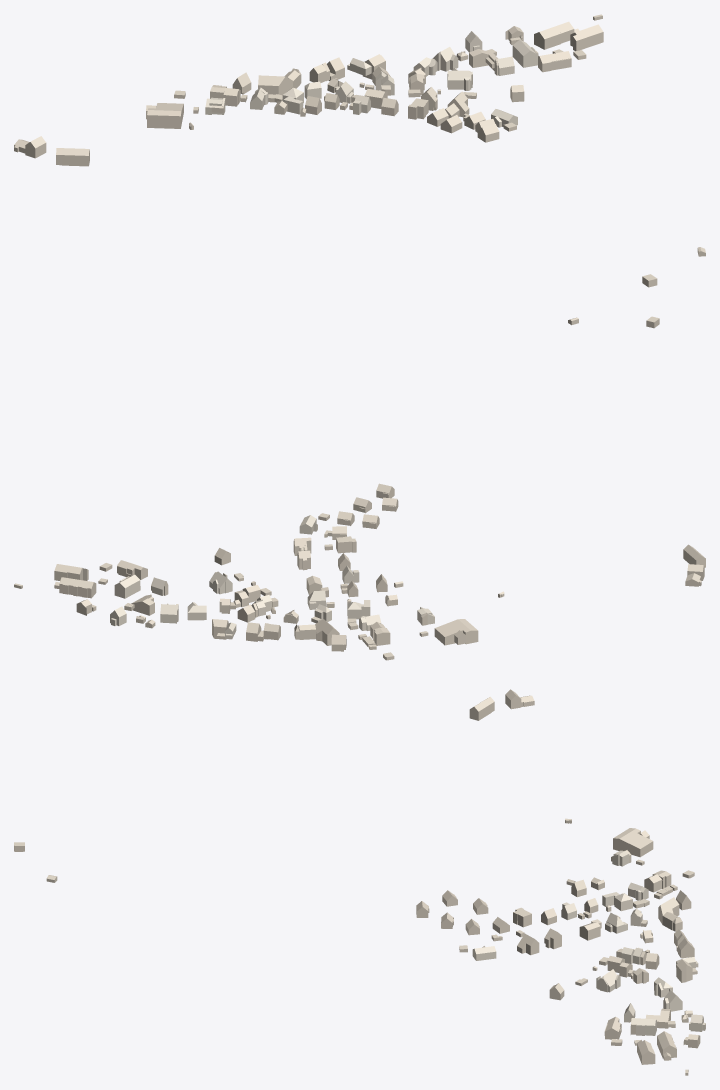
3 renders of one model, top to bottom at view 1: azimuth 30°, elevation 25°; view 2: azimuth 150°, elevation 25°; view 3: azimuth 270°, elevation 25°, orthographic. The views are drawn at different scales.
Size of the model in its own units: 529 by 89.91 by 535.
